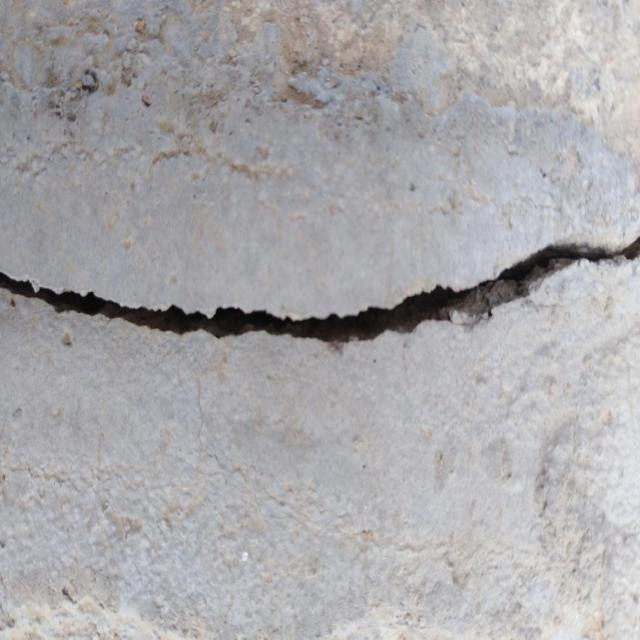horizontal crack: (0, 234, 639, 347)
